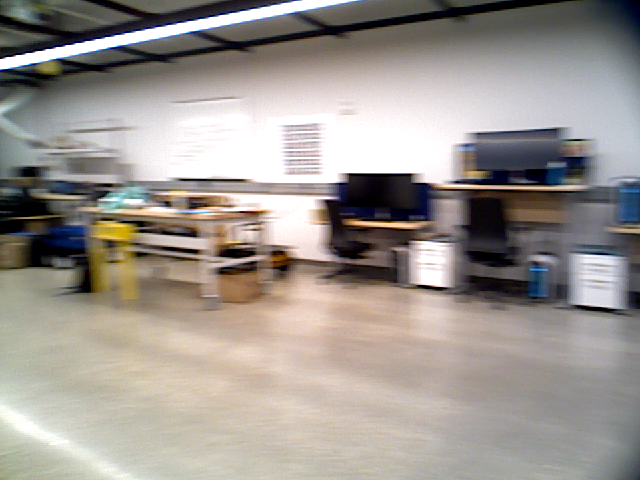painting4: (271, 115, 327, 180)
